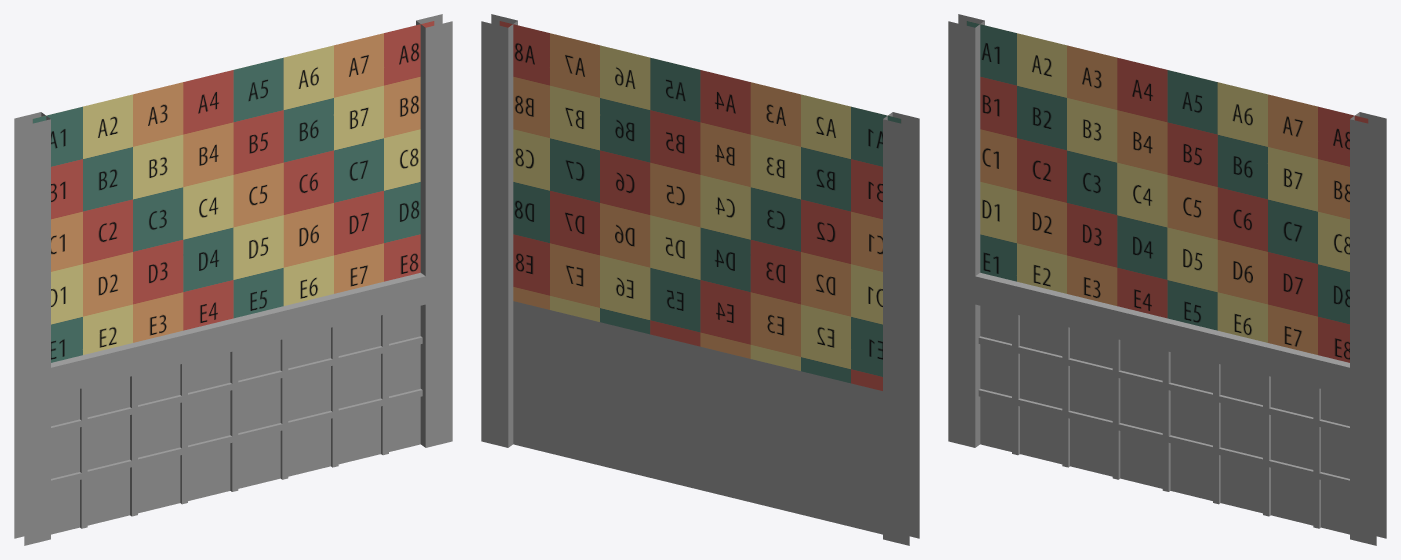
File: SM_Wall_01.fbx
The picture shows the model from 3 angles, left to right: view 1: azimuth 30°, elevation 25°; view 2: azimuth 150°, elevation 25°; view 3: azimuth 330°, elevation 25°; orthographic projection.
Visible parts, largest first — view 1: Wall_01; view 2: Wall_01; view 3: Wall_01.
Boxes of the visible parts, bbox=[...] form: Wall_01: bbox=[14, 14, 452, 545]; Wall_01: bbox=[481, 14, 919, 545]; Wall_01: bbox=[948, 14, 1386, 545].
Bounding box in the file's own units: 213 × 200 × 8.5.
